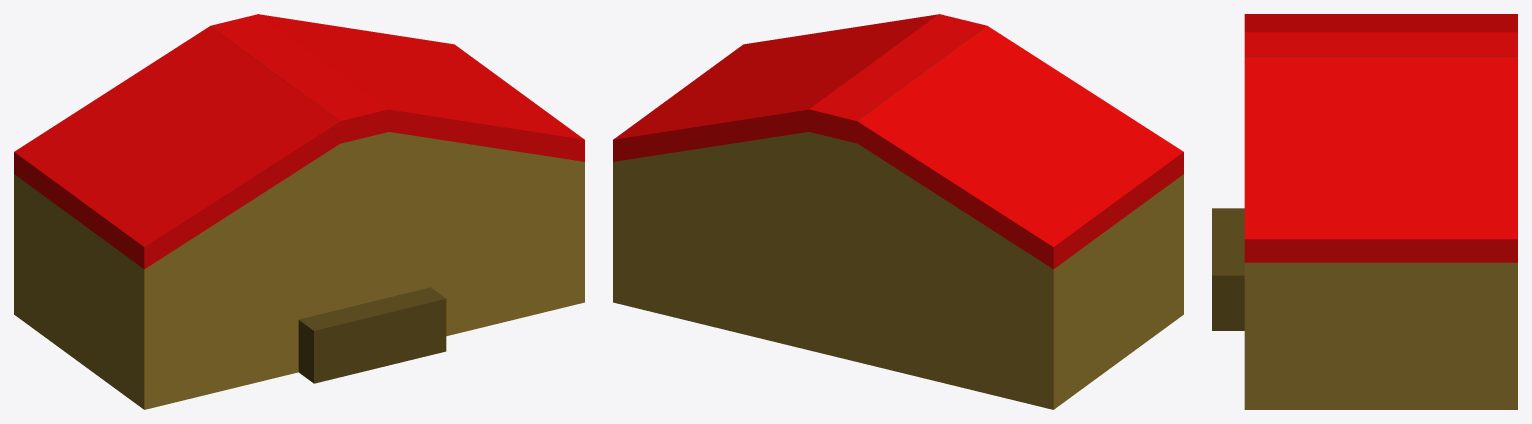
File: House.fbx
3 renders of one model, left to right at view 1: azimuth 30°, elevation 25°; view 2: azimuth 150°, elevation 25°; view 3: azimuth 270°, elevation 25°, orthographic. The views are drawn at different scales.
Parts seen in each view (by area): view 1: pCube4; view 2: pCube4; view 3: pCube4.
Boxes of the visible parts, box(x1,y1,x2,y2) form: pCube4: box(14, 14, 584, 409); pCube4: box(613, 14, 1183, 409); pCube4: box(1212, 14, 1517, 409).
Bounding box in the file's own units: 19.52 × 10.2 × 11.19.
